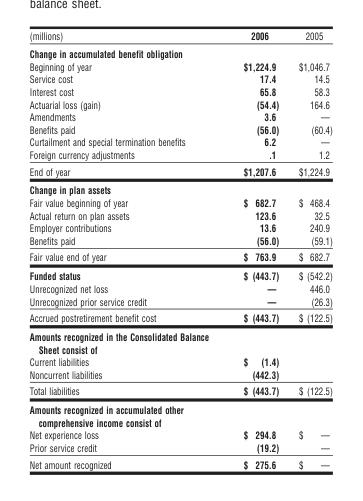table: (28, 29, 331, 470)
table column: (28, 29, 213, 470), (213, 29, 288, 470), (288, 29, 331, 470)
table column header: (28, 29, 331, 44)
table projected row header: (28, 326, 331, 355), (28, 399, 331, 428), (28, 180, 331, 196), (28, 44, 331, 59)
table row: (28, 326, 331, 355), (28, 399, 331, 428), (28, 162, 331, 180), (28, 248, 331, 266), (28, 309, 331, 326), (28, 382, 331, 399), (28, 180, 331, 196), (28, 29, 331, 44), (28, 44, 331, 59), (28, 233, 331, 248), (28, 266, 331, 281), (28, 294, 331, 309), (28, 367, 331, 382), (28, 455, 331, 470), (28, 148, 331, 162), (28, 441, 331, 455), (28, 59, 331, 72), (28, 84, 331, 97), (28, 97, 331, 110), (28, 122, 331, 135), (28, 135, 331, 148), (28, 208, 331, 221), (28, 281, 331, 294), (28, 428, 331, 441), (28, 72, 331, 84), (28, 110, 331, 122), (28, 196, 331, 208), (28, 221, 331, 233), (28, 355, 331, 367)
